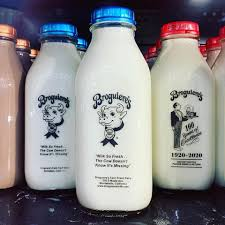milk: (74, 5, 152, 206), (146, 19, 220, 182), (27, 22, 83, 190)
